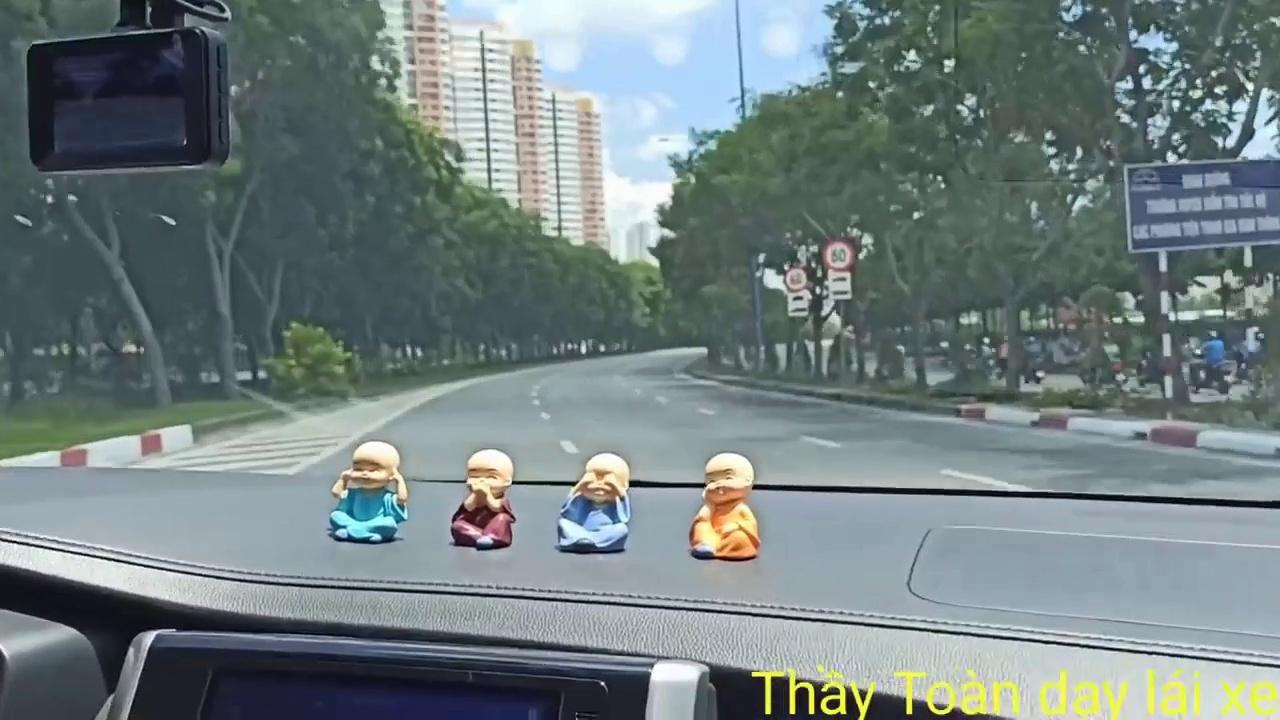Biển phụ: (828, 270, 853, 300), (788, 294, 809, 317)
GIơi hạn tốc độ 60Km/h: (783, 266, 808, 293)
Giới hạn tốc độ 80Km/h: (822, 237, 856, 271)
